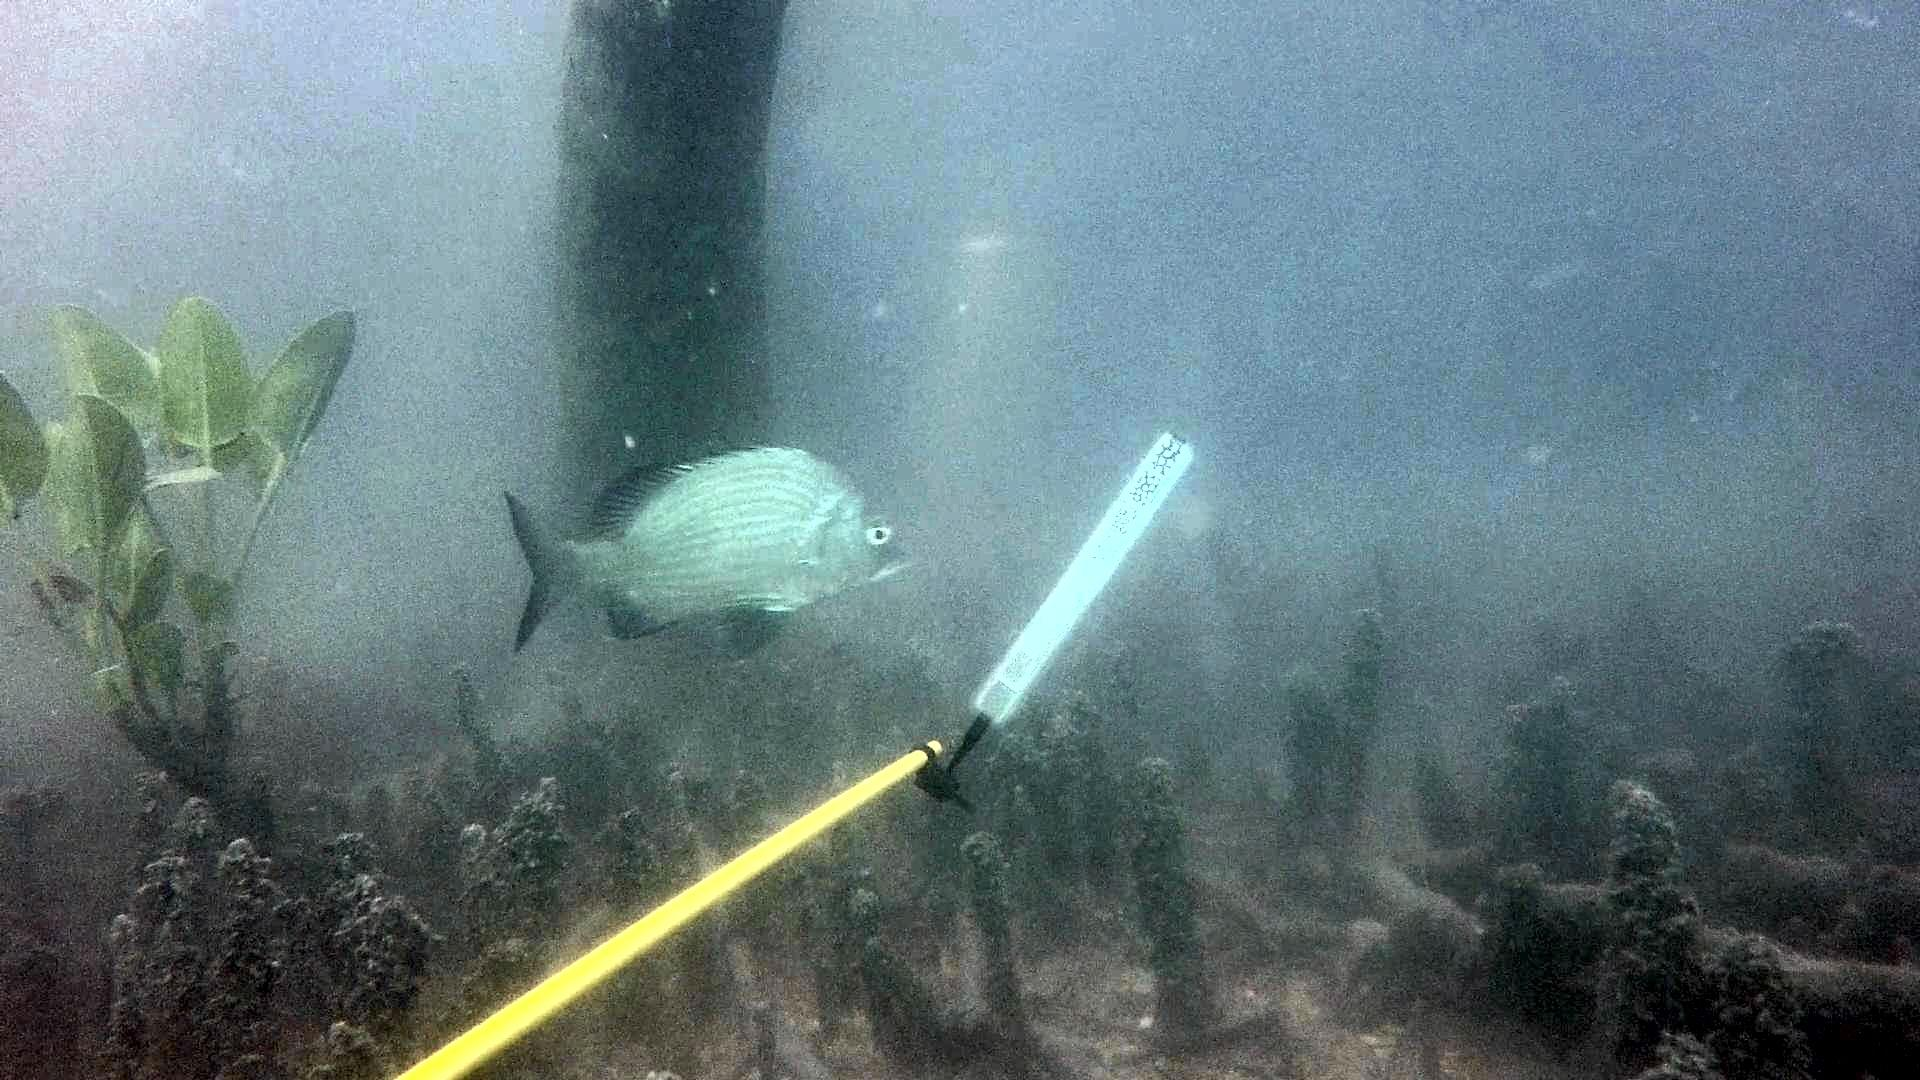acanthopagrus palmaris: (491, 426, 928, 671)
